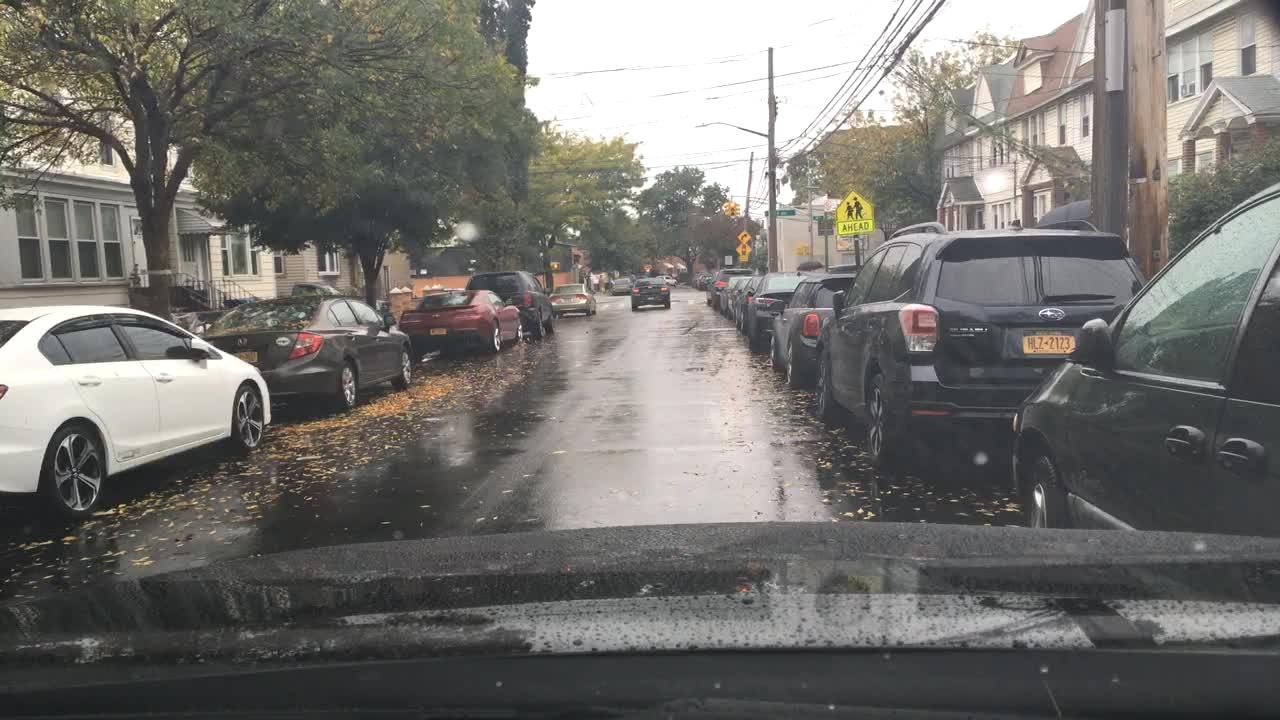subaru: (1035, 303, 1068, 326)
